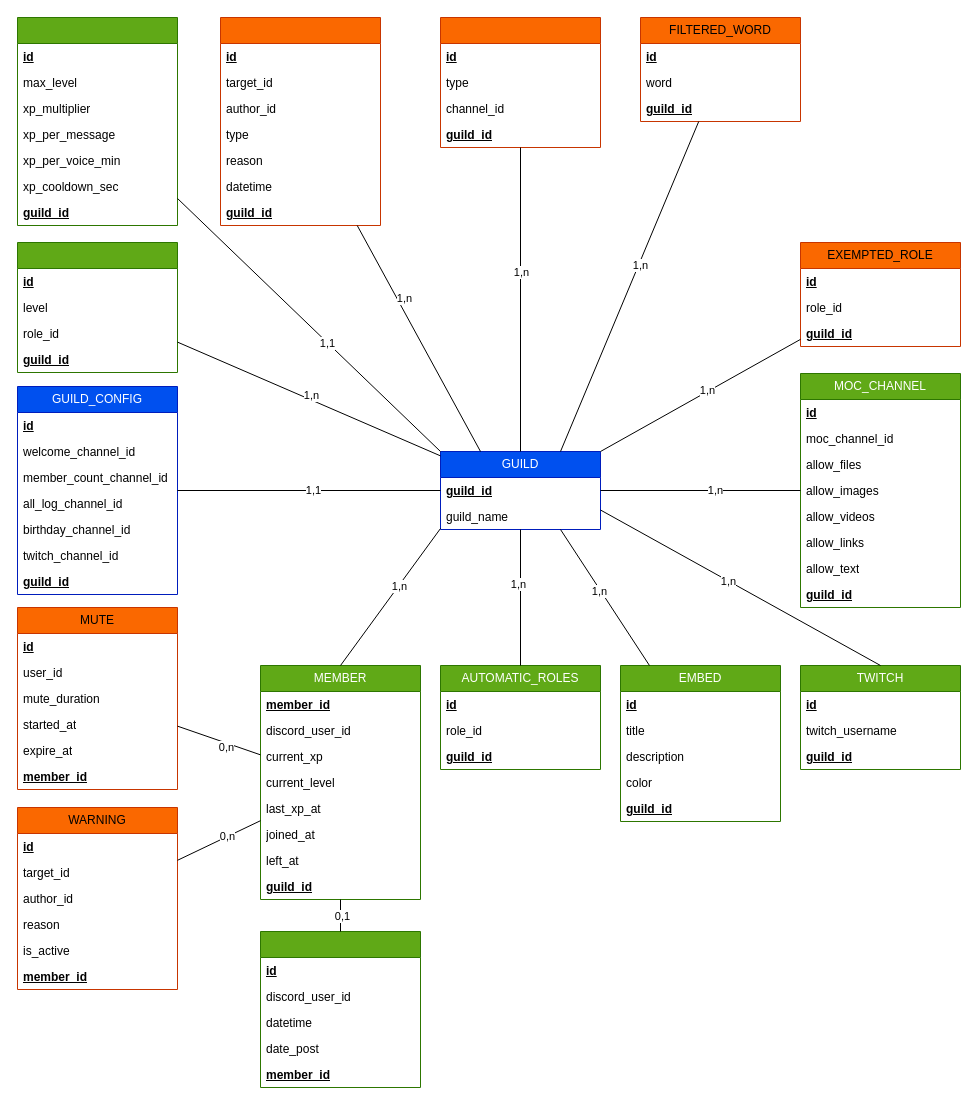
Image size: 978x1108. Some labels were removed from this diagram. Each missing label, with the box of its shape:
BIRTHDAY: (260, 930, 420, 1088)
CHANNEL_LOG: (440, 16, 600, 148)
LEVEL_CONFIG: (16, 16, 178, 226)
LEVEL_REWARD: (16, 242, 178, 372)
LOGS: (220, 16, 380, 226)
